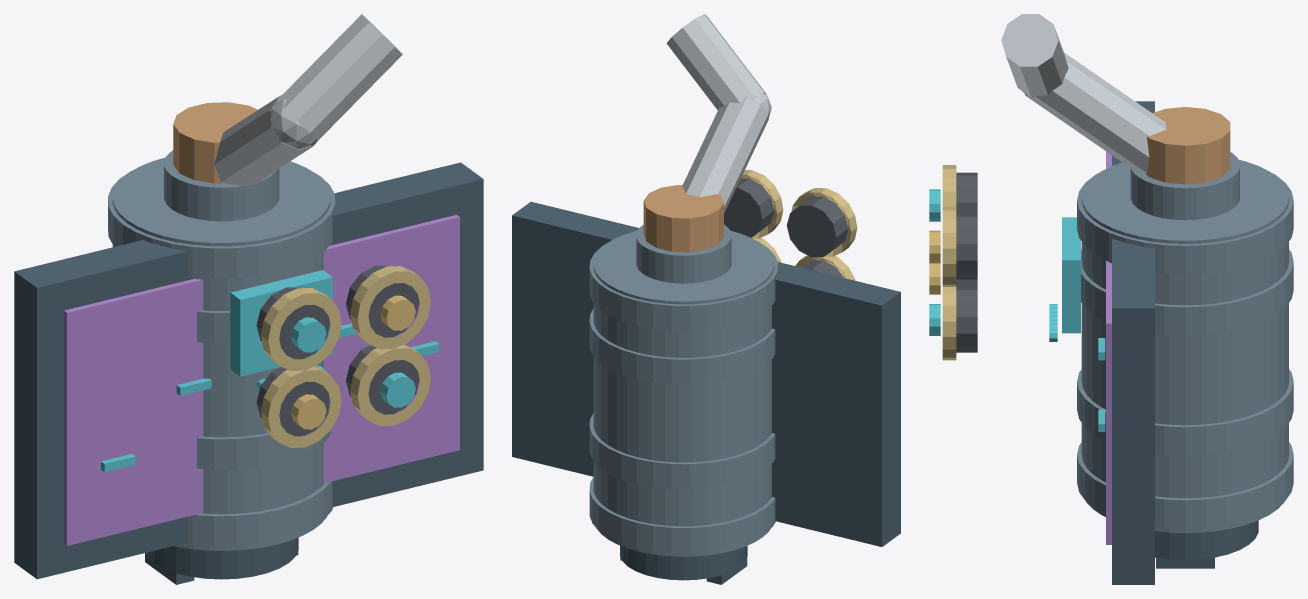
The model's file is 54_L82_PrecisionClockEMIProbe.glb.
3 renders of one model, left to right at view 1: azimuth 30°, elevation 25°; view 2: azimuth 150°, elevation 25°; view 3: azimuth 270°, elevation 25°, orthographic. The views are drawn at different scales.
Visible parts, largest first — view 1: PrecisionClockEMIProbe_Node_0027, PrecisionClockEMIProbe_Node_0026, PrecisionClockEMIProbe_Node_0000, PrecisionClockEMIProbe_Node_0024, PrecisionClockEMIProbe_Node_0008, PrecisionClockEMIProbe_Node_0002, PrecisionClockEMIProbe_Node_0011, PrecisionClockEMIProbe_Node_0023, PrecisionClockEMIProbe_Node_0010, PrecisionClockEMIProbe_Node_0013, PrecisionClockEMIProbe_Node_0012, PrecisionClockEMIProbe_Node_0004 (+14 smaller); view 2: PrecisionClockEMIProbe_Node_0026, PrecisionClockEMIProbe_Node_0000, PrecisionClockEMIProbe_Node_0008, PrecisionClockEMIProbe_Node_0004, PrecisionClockEMIProbe_Node_0006, PrecisionClockEMIProbe_Node_0002, PrecisionClockEMIProbe_Node_0023, PrecisionClockEMIProbe_Node_0024, PrecisionClockEMIProbe_Node_0013, PrecisionClockEMIProbe_Node_0011, PrecisionClockEMIProbe_Node_0039, PrecisionClockEMIProbe_Node_0012 (+3 smaller); view 3: PrecisionClockEMIProbe_Node_0000, PrecisionClockEMIProbe_Node_0026, PrecisionClockEMIProbe_Node_0023, PrecisionClockEMIProbe_Node_0008, PrecisionClockEMIProbe_Node_0013, PrecisionClockEMIProbe_Node_0002, PrecisionClockEMIProbe_Node_0004, PrecisionClockEMIProbe_Node_0006, PrecisionClockEMIProbe_Node_0011, PrecisionClockEMIProbe_Node_0024, PrecisionClockEMIProbe_Node_0012, PrecisionClockEMIProbe_Node_0010 (+8 smaller).
Part boxes in pixels (box(x1,y1,x2,y2)): PrecisionClockEMIProbe_Node_0027: box(64, 214, 459, 545); PrecisionClockEMIProbe_Node_0026: box(14, 162, 483, 579); PrecisionClockEMIProbe_Node_0000: box(112, 157, 330, 550); PrecisionClockEMIProbe_Node_0024: box(277, 14, 402, 140); PrecisionClockEMIProbe_Node_0008: box(108, 171, 335, 278); PrecisionClockEMIProbe_Node_0002: box(184, 481, 333, 546); PrecisionClockEMIProbe_Node_0011: box(164, 150, 279, 221); PrecisionClockEMIProbe_Node_0023: box(214, 95, 317, 185); PrecisionClockEMIProbe_Node_0010: box(230, 270, 332, 376); PrecisionClockEMIProbe_Node_0013: box(173, 102, 257, 183); PrecisionClockEMIProbe_Node_0012: box(146, 537, 298, 579); PrecisionClockEMIProbe_Node_0004: box(197, 405, 330, 469); PrecisionClockEMIProbe_Node_0026: box(512, 201, 900, 546); PrecisionClockEMIProbe_Node_0000: box(593, 230, 774, 556); PrecisionClockEMIProbe_Node_0008: box(589, 241, 778, 330); PrecisionClockEMIProbe_Node_0004: box(589, 413, 775, 489); PrecisionClockEMIProbe_Node_0006: box(589, 308, 775, 384); PrecisionClockEMIProbe_Node_0002: box(589, 477, 775, 552); PrecisionClockEMIProbe_Node_0023: box(682, 97, 768, 213); PrecisionClockEMIProbe_Node_0024: box(666, 14, 766, 110); PrecisionClockEMIProbe_Node_0013: box(643, 185, 723, 252); PrecisionClockEMIProbe_Node_0011: box(636, 225, 731, 283); PrecisionClockEMIProbe_Node_0039: box(786, 196, 848, 257); PrecisionClockEMIProbe_Node_0012: box(620, 545, 747, 580); PrecisionClockEMIProbe_Node_0000: box(1081, 160, 1288, 533); PrecisionClockEMIProbe_Node_0026: box(1112, 101, 1154, 584); PrecisionClockEMIProbe_Node_0023: box(1025, 52, 1166, 173); PrecisionClockEMIProbe_Node_0008: box(1077, 173, 1293, 274); PrecisionClockEMIProbe_Node_0013: box(1145, 107, 1230, 184); PrecisionClockEMIProbe_Node_0002: box(1077, 442, 1293, 528); PrecisionClockEMIProbe_Node_0004: box(1077, 369, 1293, 455); PrecisionClockEMIProbe_Node_0006: box(1081, 249, 1293, 335); PrecisionClockEMIProbe_Node_0011: box(1130, 152, 1239, 220); PrecisionClockEMIProbe_Node_0024: box(1001, 14, 1068, 97); PrecisionClockEMIProbe_Node_0012: box(1155, 520, 1258, 560); PrecisionClockEMIProbe_Node_0010: box(1062, 217, 1080, 333).
Bounding box in the file's own units: 0.85 × 1.06 × 0.6328.
